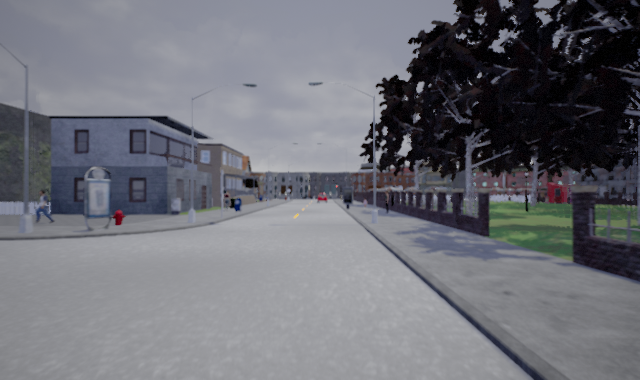pedestrian: (33, 188, 53, 223)
